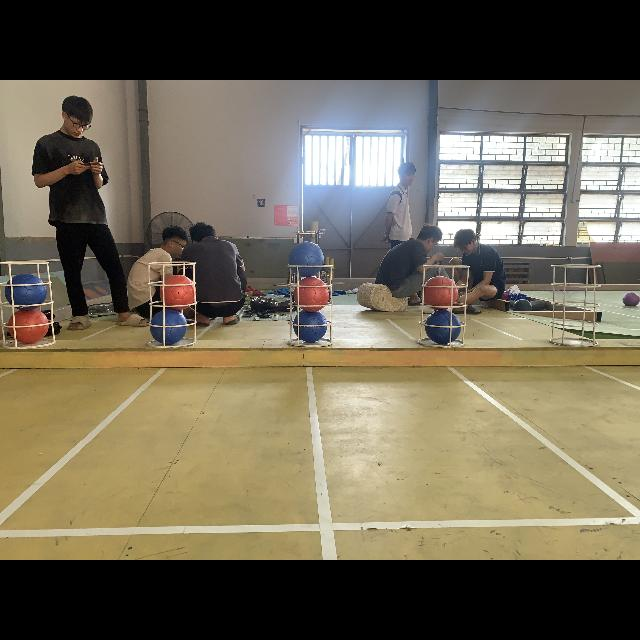B: (5, 274, 47, 310), (150, 311, 188, 345), (292, 311, 328, 345), (290, 242, 322, 276), (426, 312, 460, 344)
R: (11, 308, 49, 346), (159, 275, 197, 311), (424, 276, 458, 310), (294, 278, 328, 310)
